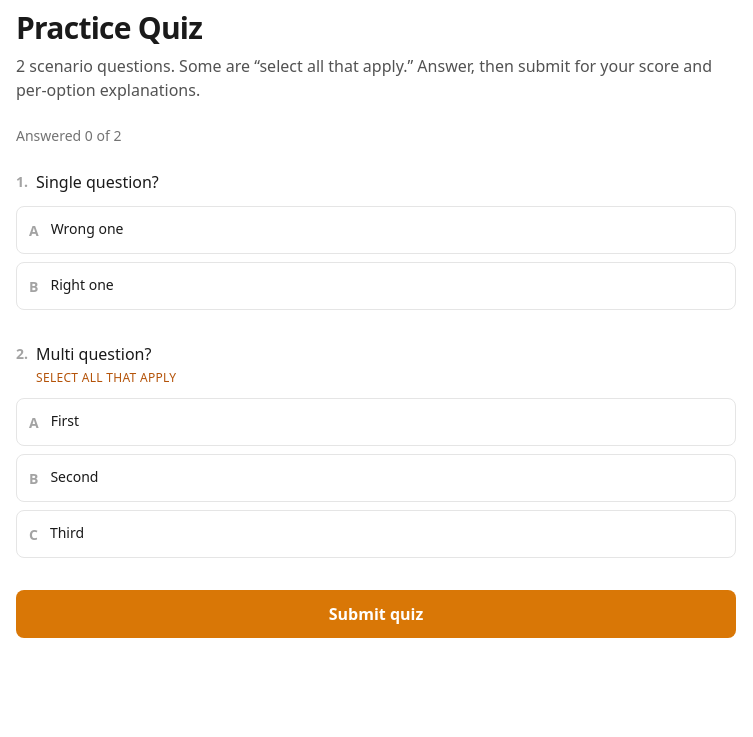
QuizRunner › scores a fully correct attempt and shows explanations
Step 1. Click the text "Right one" → coordinates (82, 284), box [50, 275, 114, 294]
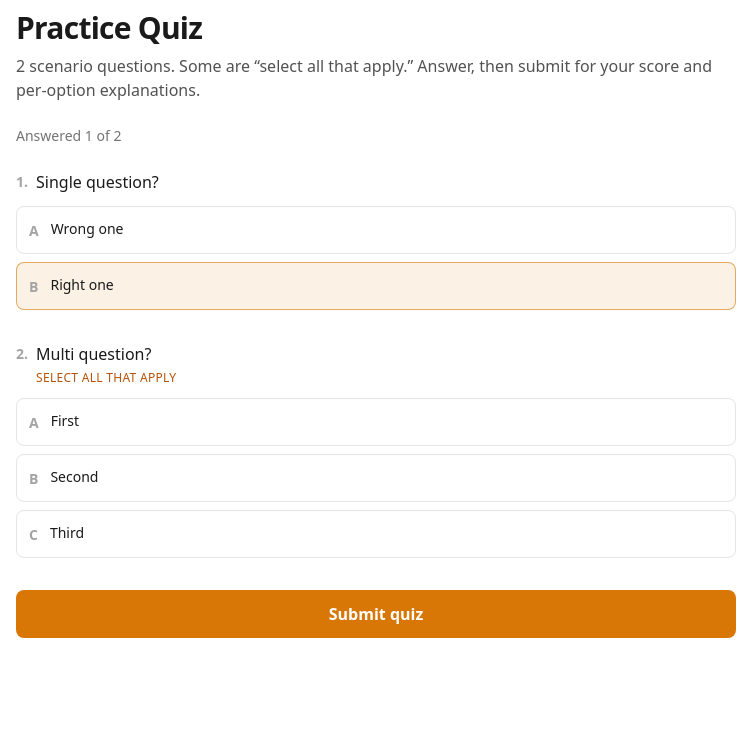
Step 2. Click the text "First" → coordinates (65, 420), box [51, 411, 79, 430]
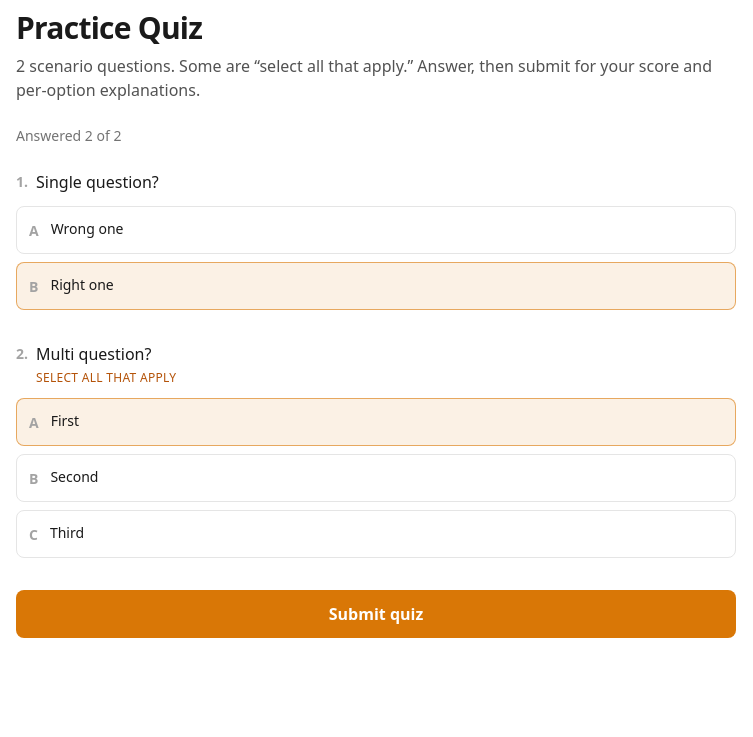
Step 3. Click the text "Third" → coordinates (67, 532), box [50, 523, 84, 542]
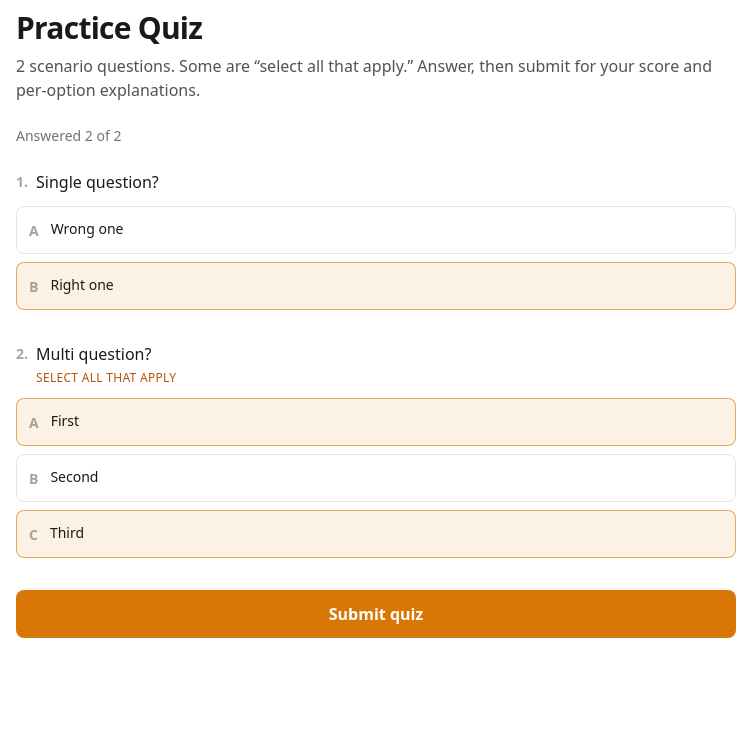
Step 4. Click the button "Submit quiz" → coordinates (376, 614), box [16, 590, 736, 638]
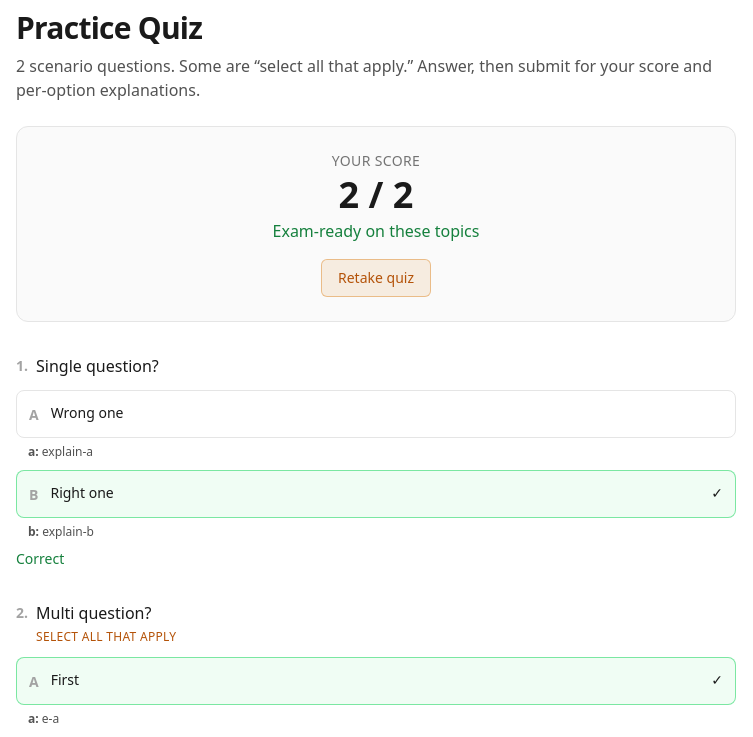
Expected: the text "2 / 2" is shown, [339, 170, 413, 219]
Expected: the text "Exam-ready on these topics" is shown, [272, 220, 479, 242]
Expected: the text "b: explain-b" is shown, [28, 522, 94, 540]
